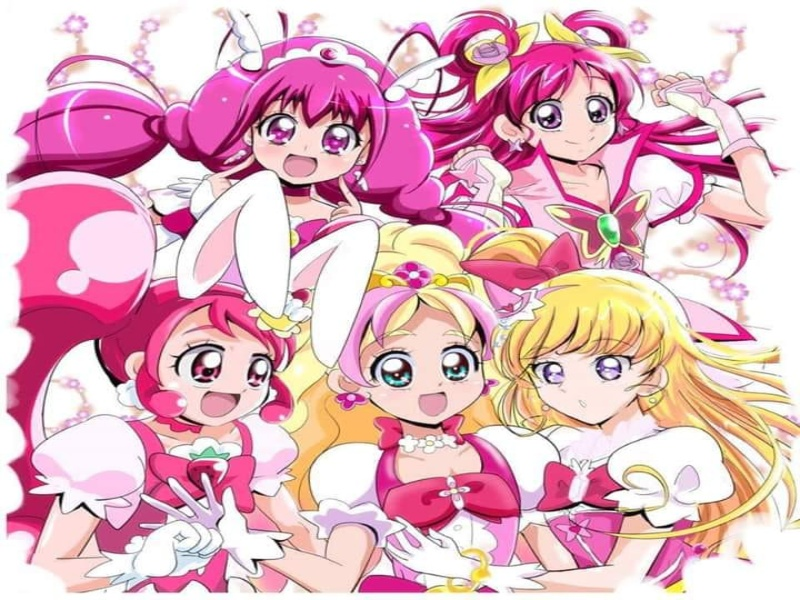flower: (396, 260, 433, 292), (415, 428, 448, 456), (398, 433, 419, 451), (438, 432, 458, 449)
